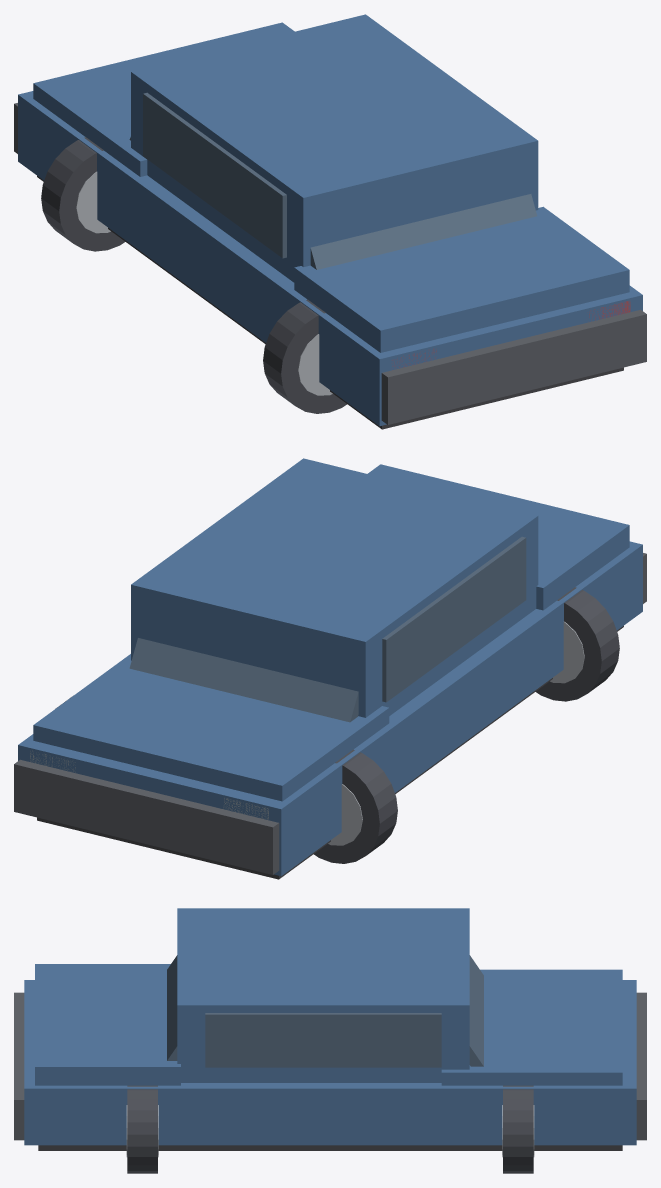
File: vehicle_sedan.glb
The picture shows the model from 3 angles, top to bottom: view 1: azimuth 30°, elevation 25°; view 2: azimuth 150°, elevation 25°; view 3: azimuth 270°, elevation 25°; orthographic projection. The views are drawn at different scales.
Visible parts, largest first — view 1: world; view 2: world; view 3: world.
Part boxes in pixels (left/top/right/bottom): world: left=14, top=14, right=646, bottom=429; world: left=14, top=458, right=646, bottom=879; world: left=14, top=908, right=646, bottom=1173.
Bounding box in the file's own units: 2.38 × 1.29 × 4.55.
